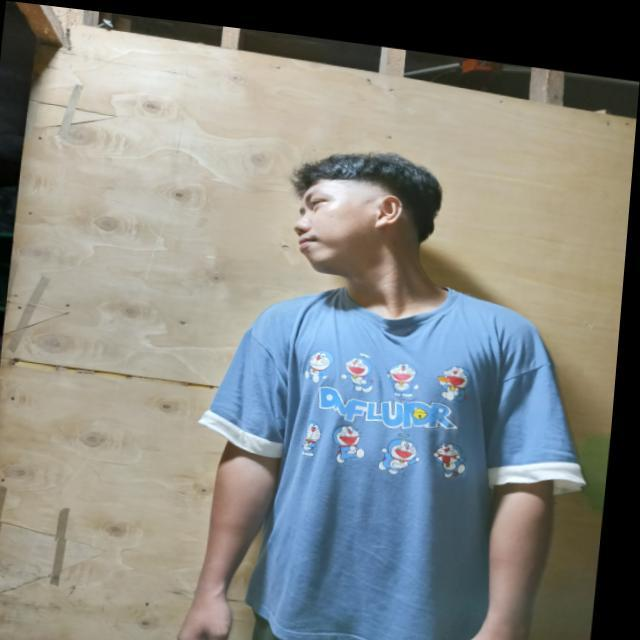Nonhelmet: (282, 144, 452, 278)
